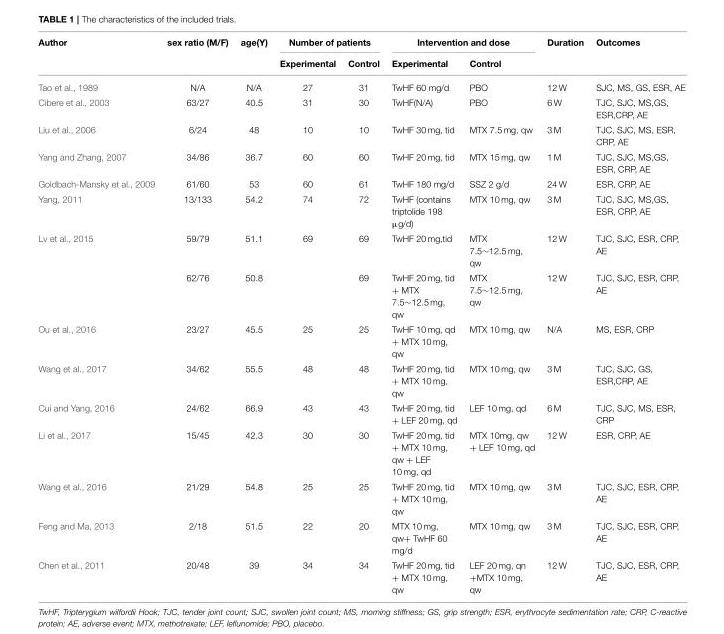table: (37, 37, 684, 594)
table column: (37, 37, 160, 594), (589, 37, 684, 594), (384, 37, 462, 594), (462, 37, 540, 594), (160, 37, 233, 594), (272, 37, 341, 594), (540, 37, 589, 594), (341, 37, 384, 594), (233, 37, 272, 594)
table column header: (37, 37, 684, 75)
table row: (37, 427, 684, 479), (37, 270, 684, 321), (37, 230, 684, 270), (37, 321, 684, 361), (37, 191, 684, 230), (37, 361, 684, 400), (37, 479, 684, 518), (37, 518, 684, 557), (37, 557, 684, 594), (37, 94, 684, 122), (37, 122, 684, 149), (37, 149, 684, 176), (37, 400, 684, 427), (37, 52, 684, 75), (37, 75, 684, 94), (37, 37, 684, 52), (37, 176, 684, 191)
table spanning cell: (37, 230, 160, 321), (37, 37, 160, 75), (589, 37, 684, 75), (160, 37, 233, 75), (384, 37, 540, 52), (540, 37, 589, 75), (272, 37, 384, 52), (233, 37, 272, 75)
